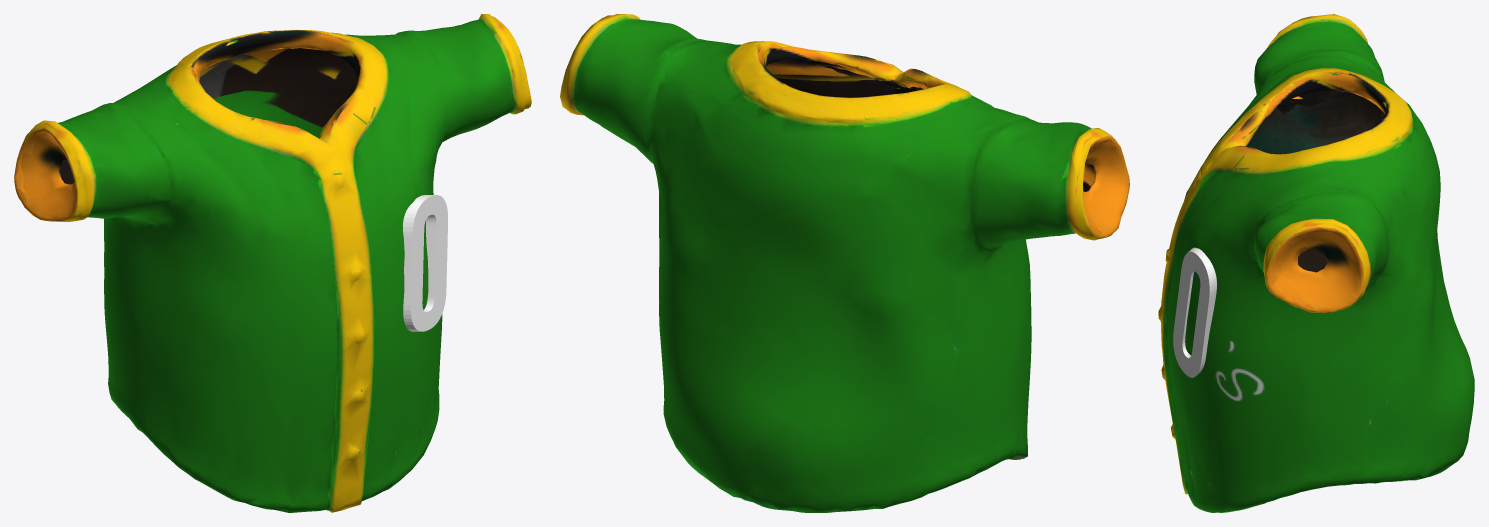
Rendered from Baseball-Green-Yellow.glb.
3 renders of one model, left to right at view 1: azimuth 30°, elevation 25°; view 2: azimuth 150°, elevation 25°; view 3: azimuth 270°, elevation 25°, orthographic. The views are drawn at different scales.
Visible parts, largest first — view 1: Baseball-Green-Yellow; view 2: Baseball-Green-Yellow; view 3: Baseball-Green-Yellow.
Boxes of the visible parts, left/top/right/bottom form: Baseball-Green-Yellow: left=14, top=14, right=531, bottom=512; Baseball-Green-Yellow: left=560, top=14, right=1129, bottom=512; Baseball-Green-Yellow: left=1158, top=14, right=1474, bottom=512.
Bounding box in the file's own units: 0.57 × 0.4471 × 0.3345.
Materials: 2 (1 with a texture image).
